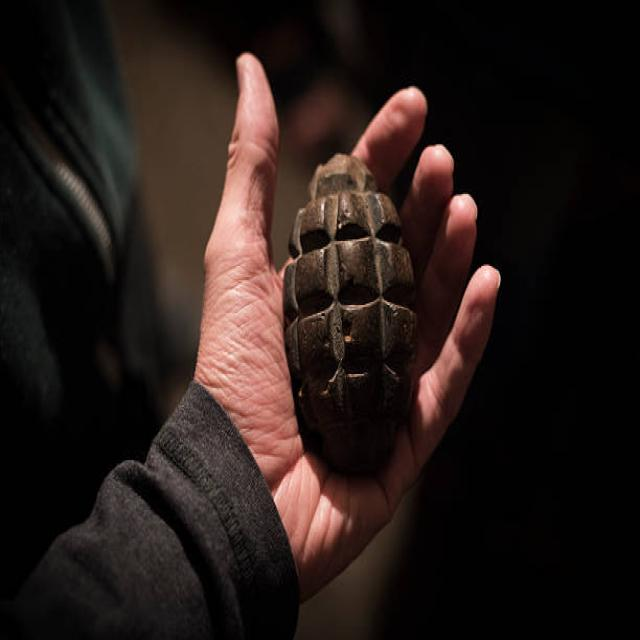grenade: (280, 146, 427, 481)
